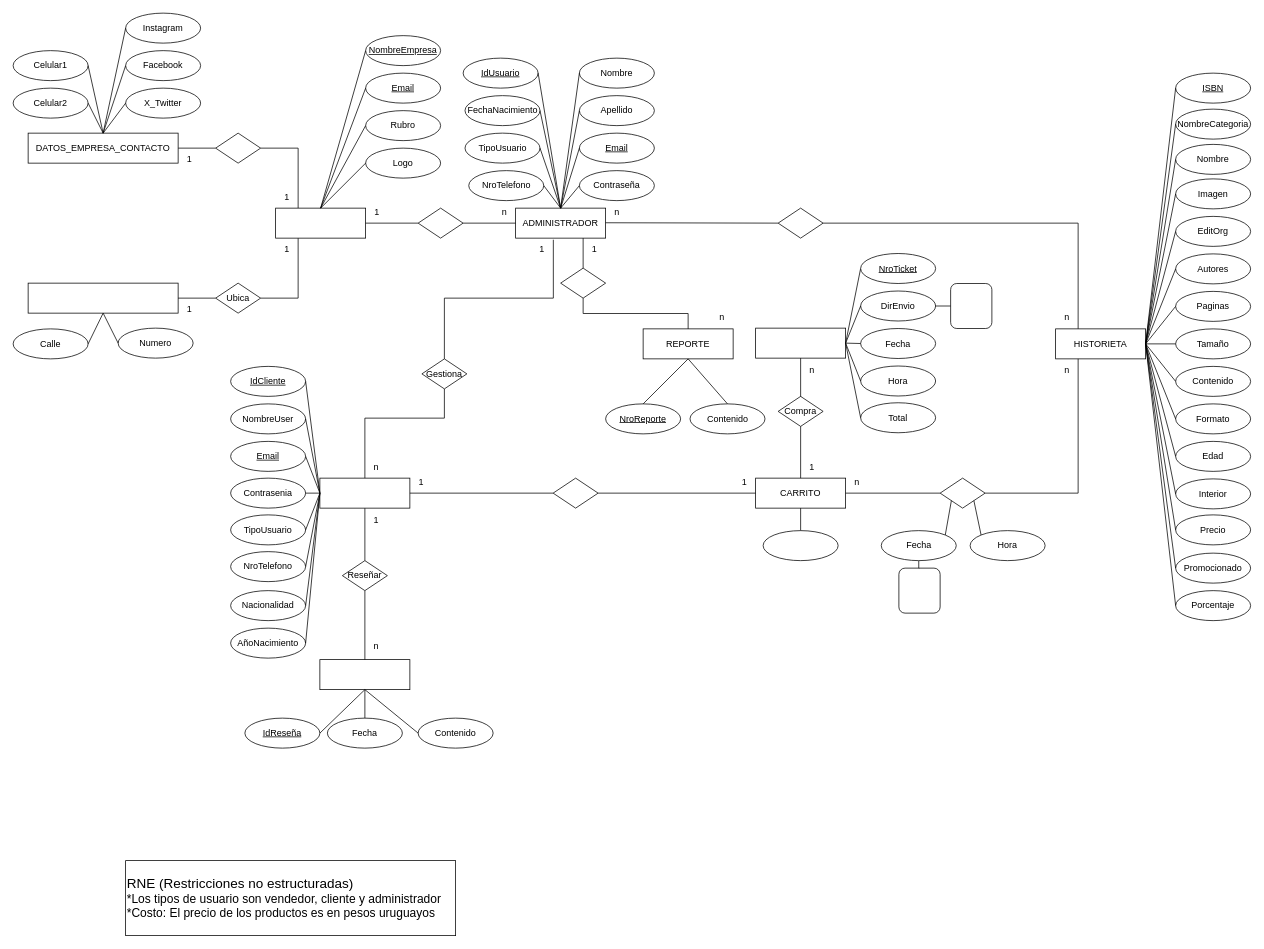
Image size: 1264x949. Some labels were removed from this diagram. The shapes that lost their labels are listed below. From the top down, each one's centre as x and y in pixels, then its label:
At (238,147): "Contacta".
At (320,222): "DATOS_EMPRESA".
At (440,222): "Carga".
At (800,222): "Crea".
At (102,297): "DATOS_EMPRESA_DIRECCION".
At (583,282): "Hace".
At (971,305): "-Calle -Número".
At (800,342): "TICKET".
At (364,492): "CLIENTE".
At (575,492): "Tiene".
At (962,492): "Agrega".
At (800,545): "IdCarrito".
At (919,590): "-Dia -Mes -Año".
At (364,674): "RESEÑA".
